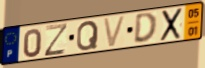0: (22, 26, 44, 59)
D: (132, 11, 159, 45)
Q: (75, 19, 100, 52)
V: (101, 14, 128, 49)
X: (159, 7, 184, 43)
Z: (43, 21, 69, 58)
